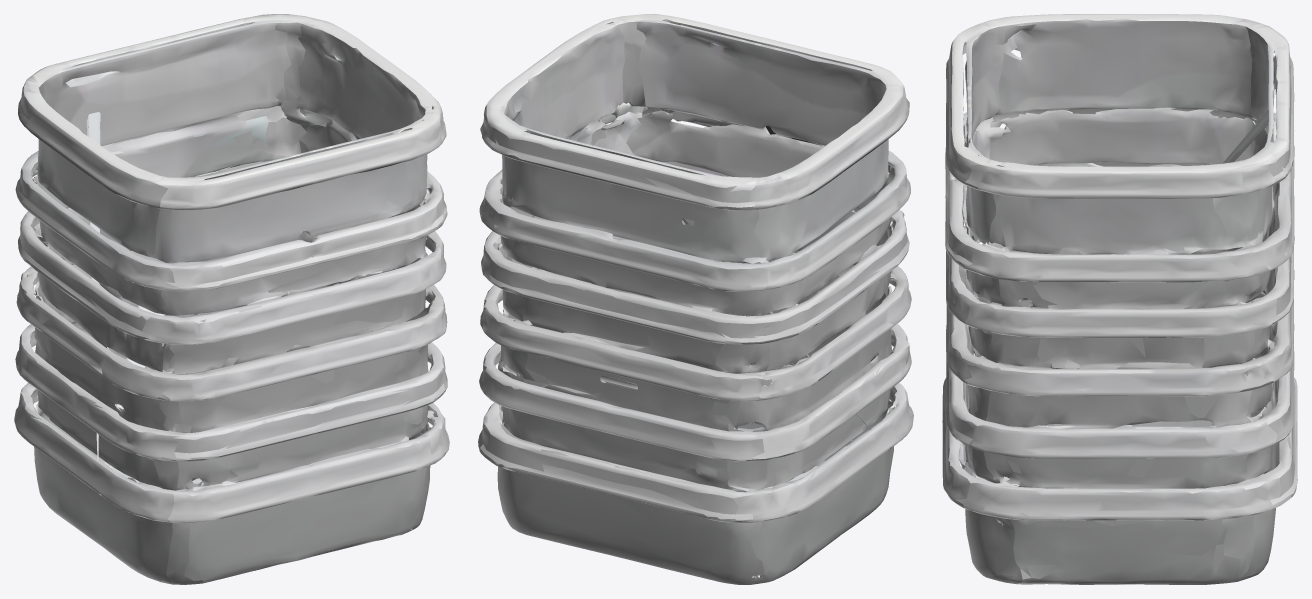
3 renders of one model, left to right at view 1: azimuth 30°, elevation 25°; view 2: azimuth 150°, elevation 25°; view 3: azimuth 270°, elevation 25°, orthographic. The views are drawn at different scales.
Visible parts, largest first — view 1: tmpuf4gnmdg.ply; view 2: tmpuf4gnmdg.ply; view 3: tmpuf4gnmdg.ply.
Boxes of the visible parts, left/top/right/bottom form: tmpuf4gnmdg.ply: left=14, top=14, right=449, bottom=584; tmpuf4gnmdg.ply: left=478, top=14, right=913, bottom=584; tmpuf4gnmdg.ply: left=942, top=14, right=1297, bottom=584.
Size of the model in its own units: 164 by 196 by 149.
Materials: 1 (1 with a texture image).
